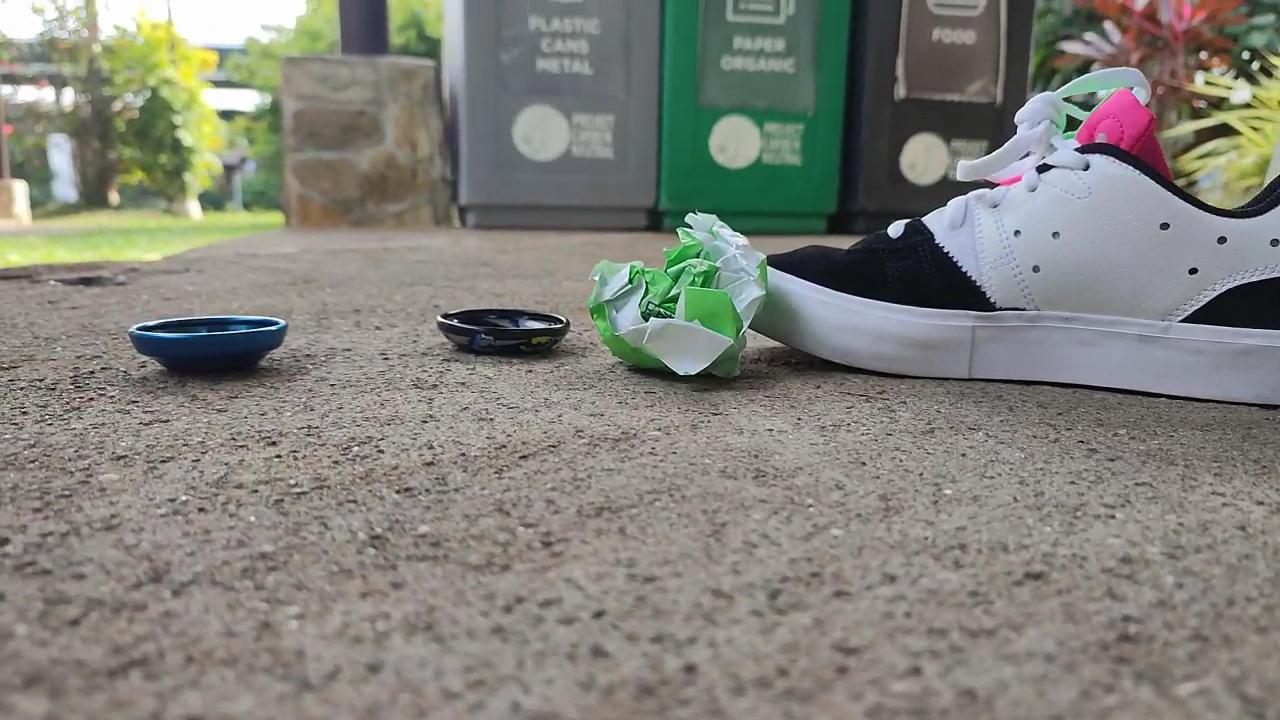Paper: (559, 188, 783, 398)
